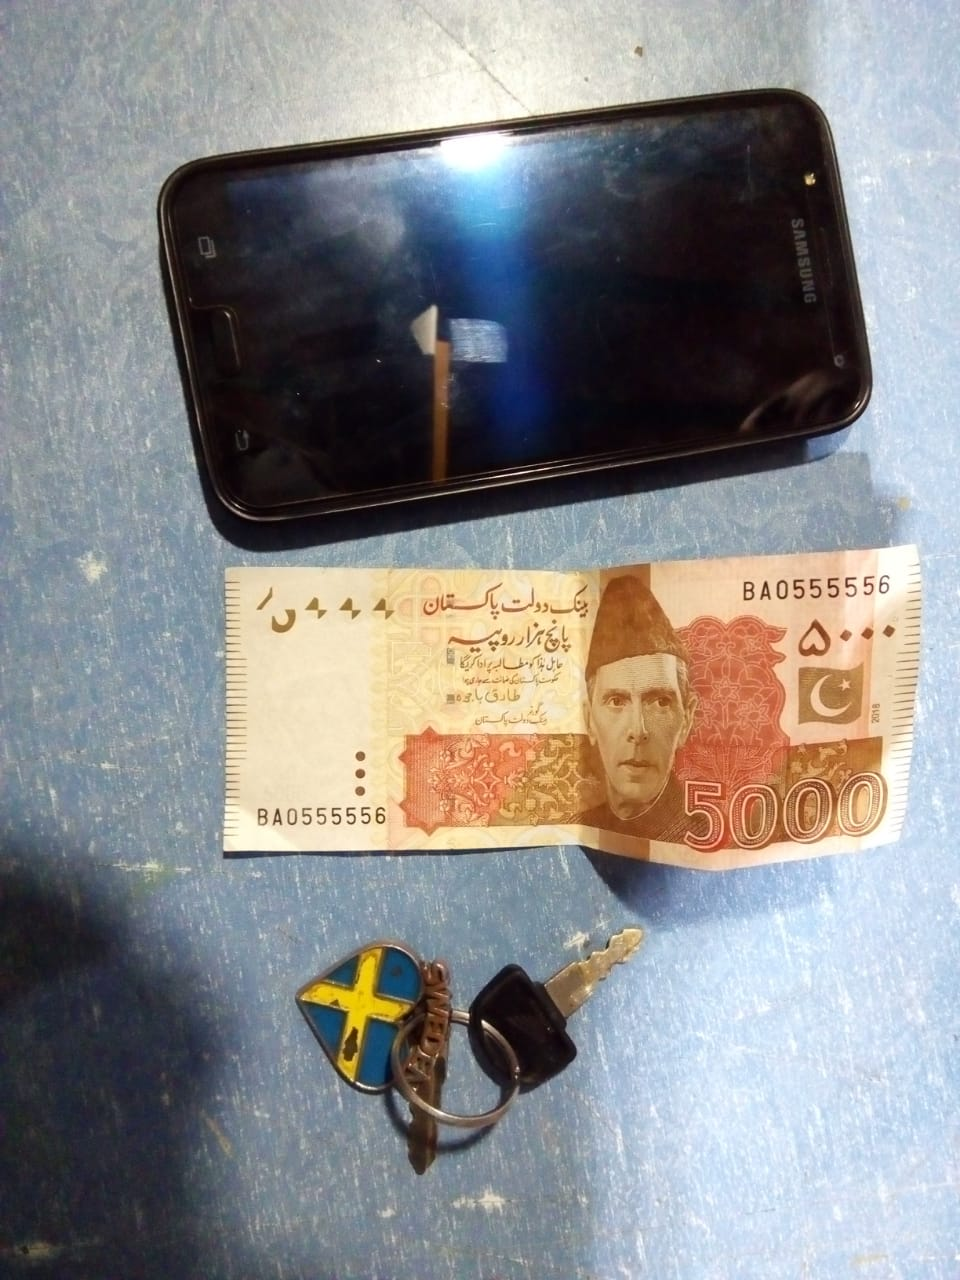5000 rupee: (167, 528, 954, 891)
